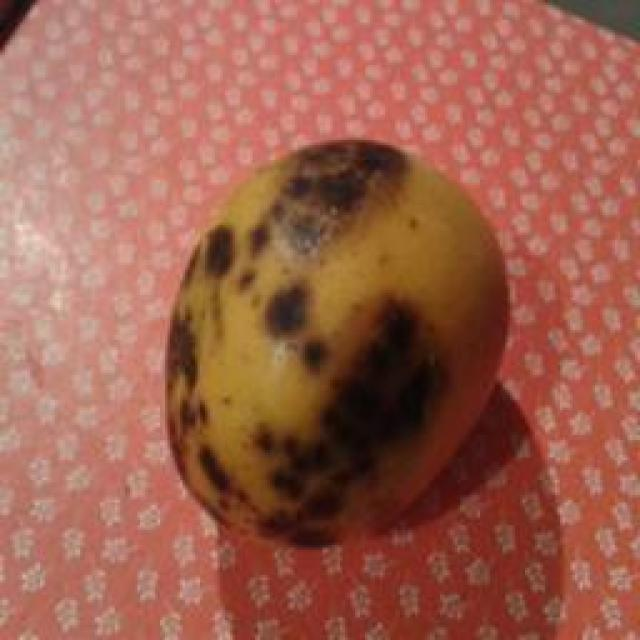Wet Waste: (185, 131, 532, 552)
